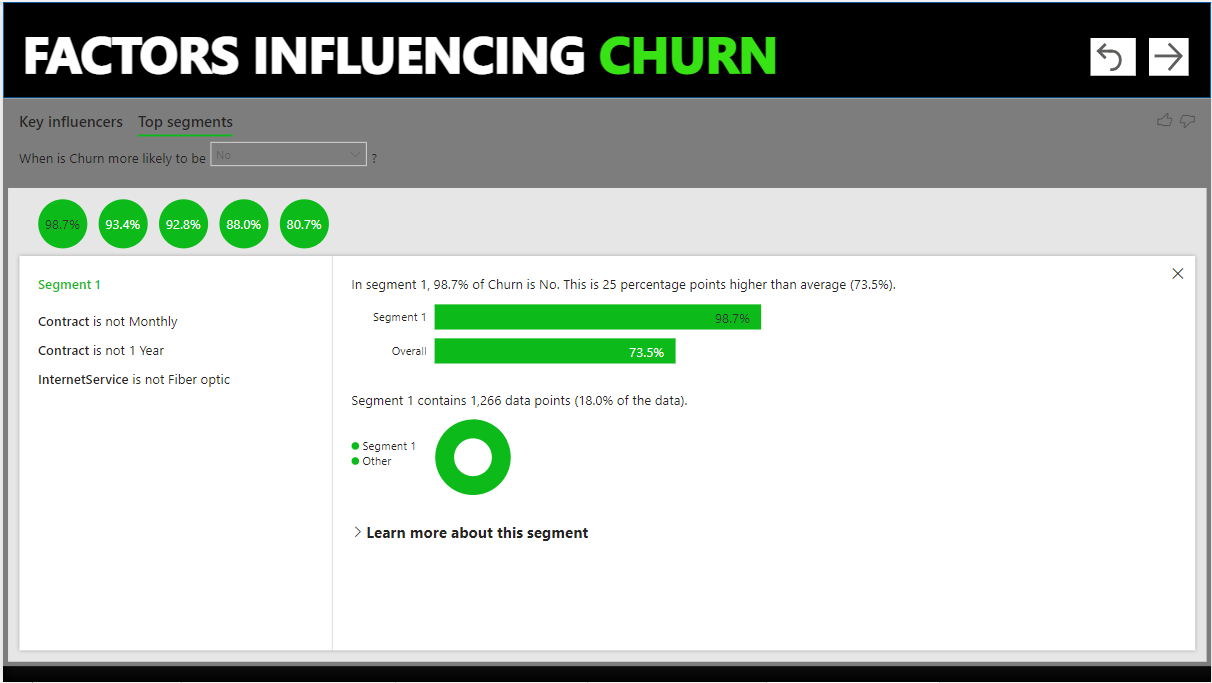

What the dashboard file says about the page in this screenshot:
{"tool":"powerbi","page":{"name":"Churn Factors","canvas":[1280,720],"ordinal":4},"visuals":[{"type":"shape","box":[0,0,1280,102],"z":0},{"type":"textbox","box":[16,12,946,90],"z":1000},{"type":"actionButton","box":[1214,38,42,40],"z":2000},{"type":"actionButton","box":[1152,38,48,40],"z":3000},{"type":"keyDriversVisual","fields":{"Target":["Telco-Churn-Analysis.Churn"],"ExplainBy":["Telco-Churn-Analysis.Contract","Telco-Churn-Analysis.Dependents","Telco-Churn-Analysis.DeviceProtection","Telco-Churn-Analysis.gender","Telco-Churn-Analysis.InternetService","Sum(Telco-Churn-Analysis.MonthlyCharges)","Telco-Churn-Analysis.MultipleLines","Telco-Churn-Analysis.OnlineBackup","Telco-Churn-Analysis.OnlineSecurity","Telco-Churn-Analysis.PaperlessBilling","Telco-Churn-Analysis.Partner","Telco-Churn-Analysis.PaymentMethod"]},"box":[0,102,1280,602],"z":4000}]}

Visuals, with their boxes in screenshot pixels (x1, y1, x2, y2):
shape: 0:0:1195:95
textbox: 15:11:898:95
actionButton: 1134:35:1173:73
actionButton: 1076:35:1121:73
keyDriversVisual - Telco-Churn-Analysis.Churn x Telco-Churn-Analysis.Contract: 0:95:1195:657
